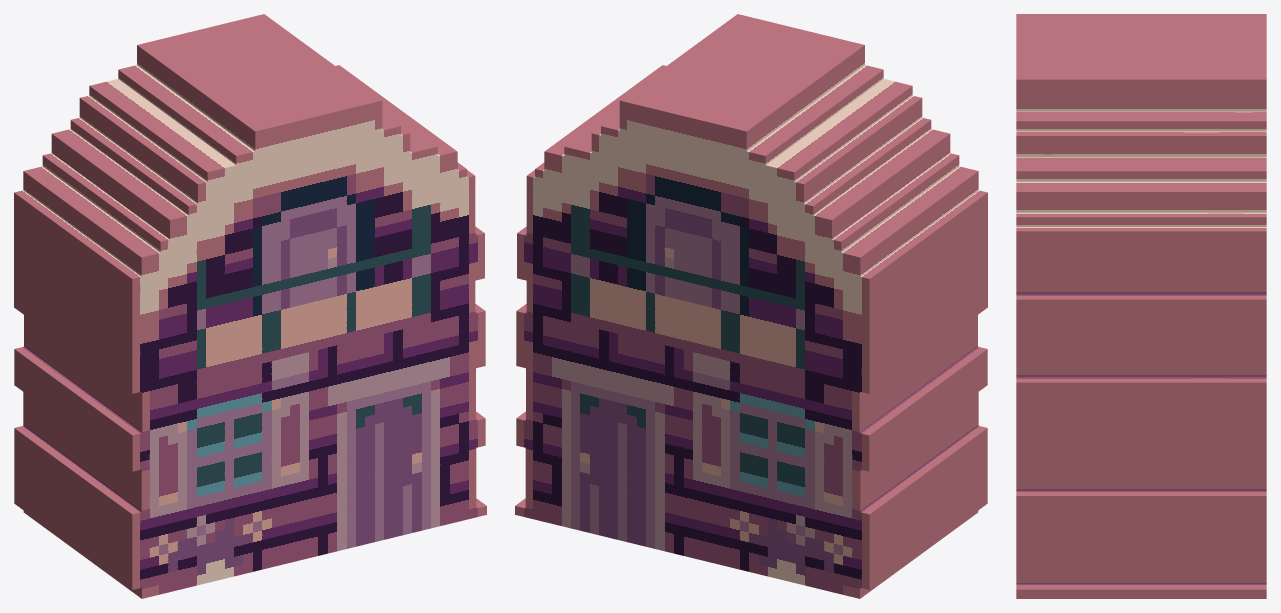
File: extra-house-1.fbx
The picture shows the model from 3 angles, left to right: view 1: azimuth 30°, elevation 25°; view 2: azimuth 150°, elevation 25°; view 3: azimuth 270°, elevation 25°; orthographic projection. The views are drawn at different scales.
Parts seen in each view (by area): view 1: Empty.001; view 2: Empty.001; view 3: Empty.001.
Boxes of the visible parts, x1=… form: Empty.001: x1=14, y1=14, x2=486, y2=598; Empty.001: x1=515, y1=14, x2=987, y2=598; Empty.001: x1=1016, y1=14, x2=1266, y2=598.
Size of the model in its own units: 394 by 467 by 227.
1 material, 1 textured.
